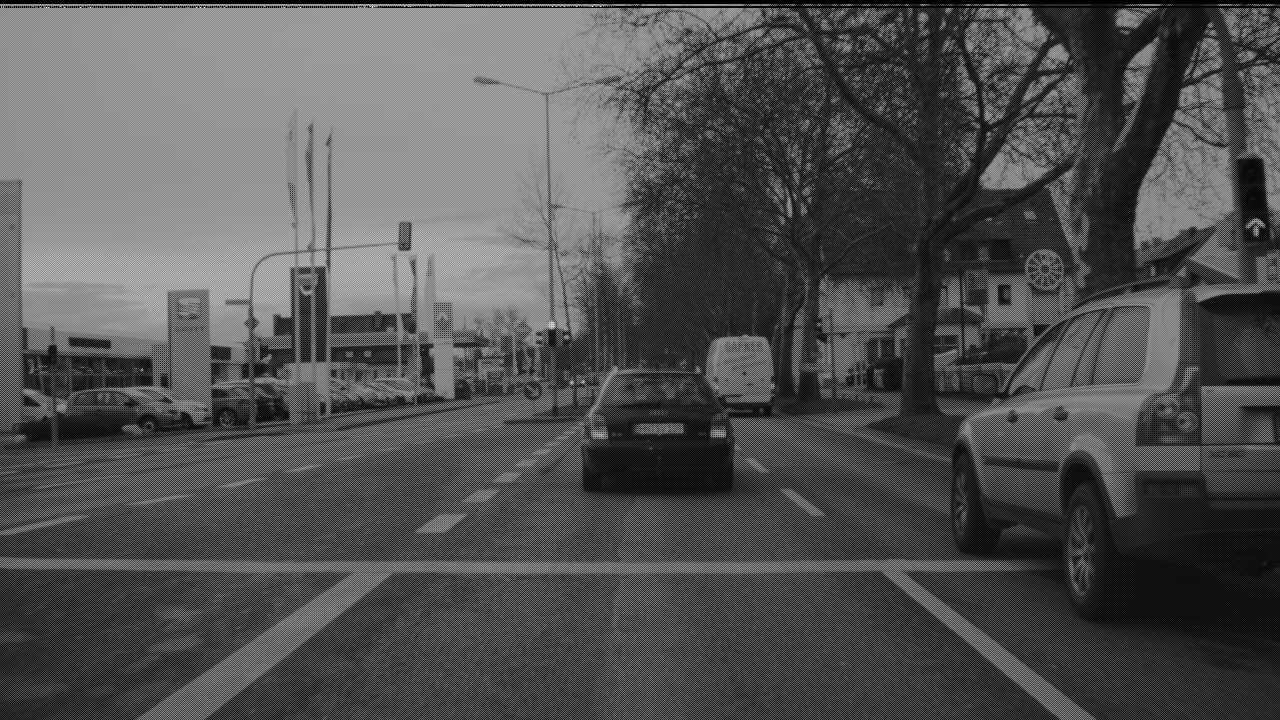pole: (544, 84, 562, 405), (322, 267, 334, 416), (292, 239, 303, 382), (249, 265, 257, 423), (309, 252, 318, 382)
